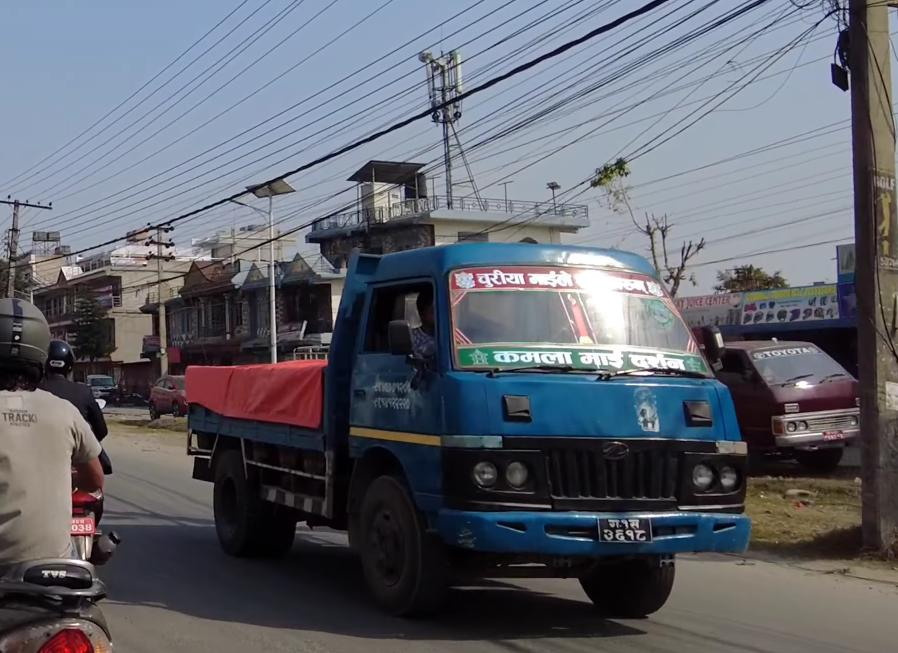car: (140, 369, 198, 426)
mini_truck: (179, 232, 760, 620)
van: (716, 300, 872, 480)
